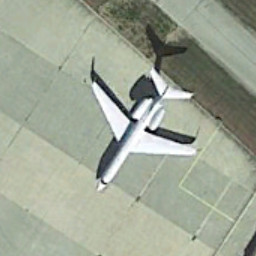Airplane: (77, 50, 204, 199)
